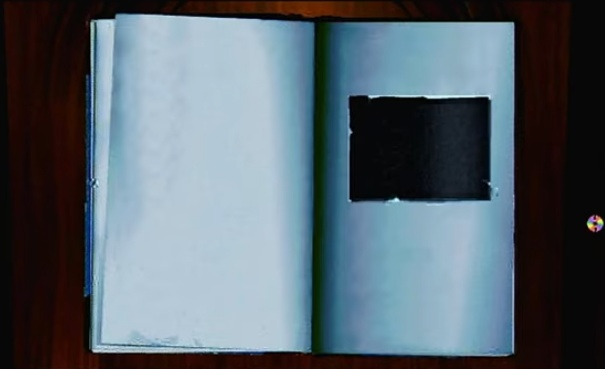Waiting: (582, 213, 605, 237)
